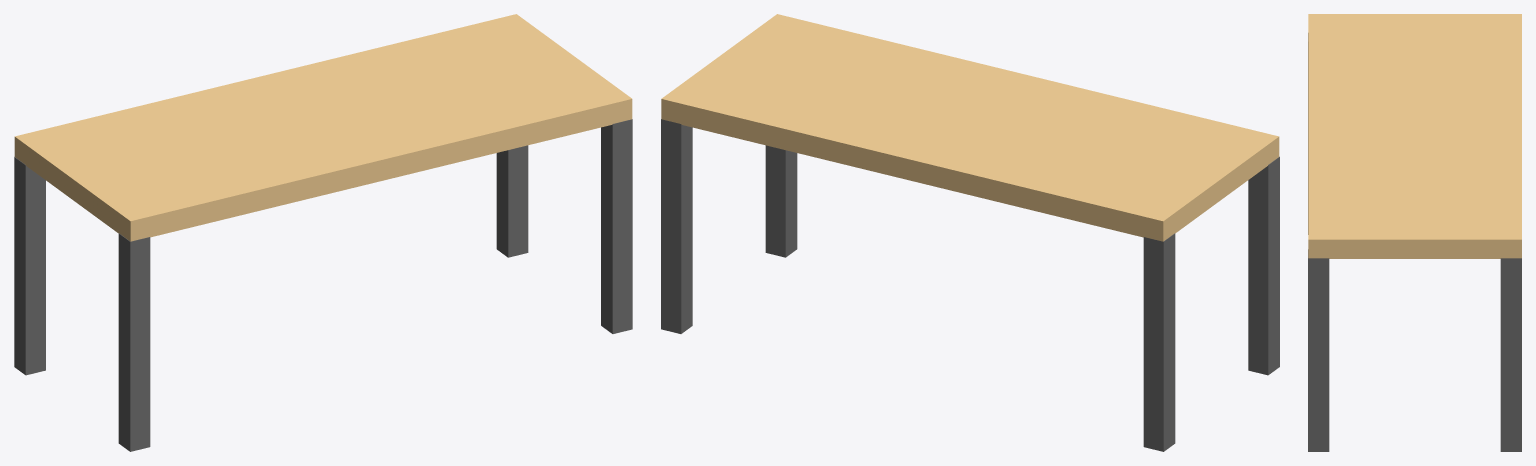
File: Table.fbx
3 renders of one model, left to right at view 1: azimuth 30°, elevation 25°; view 2: azimuth 150°, elevation 25°; view 3: azimuth 270°, elevation 25°, orthographic. The views are drawn at different scales.
Parts seen in each view (by area): view 1: Table, Leg1.002, Leg1.001, Leg1.003, Leg1; view 2: Table, Leg1.003, Leg1, Leg1.002, Leg1.001; view 3: Table, Leg1.001, Leg1.
Part boxes in pixels (x1=…): Table: x1=14, y1=14, x2=632, y2=241; Leg1.002: x1=118, y1=233, x2=150, y2=451; Leg1.001: x1=601, y1=119, x2=632, y2=333; Leg1.003: x1=14, y1=157, x2=45, y2=375; Leg1: x1=496, y1=145, x2=528, y2=257; Table: x1=661, y1=14, x2=1279, y2=241; Leg1.003: x1=1143, y1=233, x2=1175, y2=451; Leg1: x1=661, y1=119, x2=692, y2=333; Leg1.002: x1=1248, y1=156, x2=1279, y2=375; Leg1.001: x1=765, y1=145, x2=797, y2=257; Table: x1=1308, y1=14, x2=1521, y2=258; Leg1.001: x1=1308, y1=249, x2=1329, y2=451; Leg1: x1=1500, y1=258, x2=1521, y2=451.
Bounding box in the file's own units: 501 × 219 × 200.
